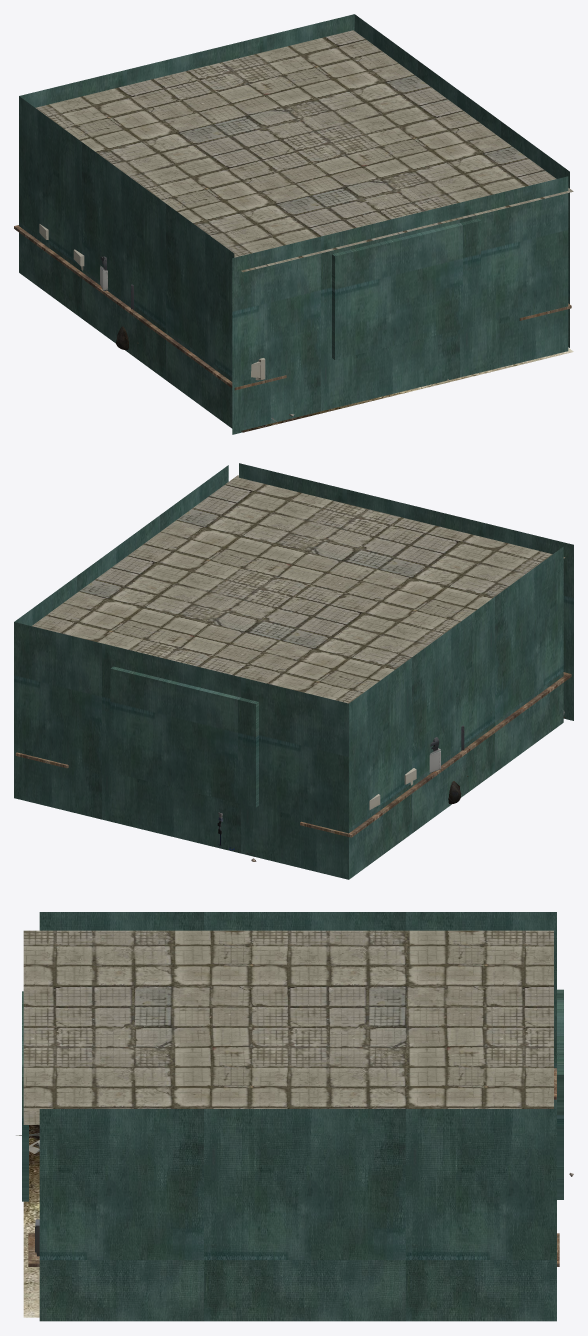
The model's file is office.glb.
3 views of the same model, one above another, from view 1: azimuth 30°, elevation 25°; view 2: azimuth 150°, elevation 25°; view 3: azimuth 270°, elevation 25° (orthographic). The views are drawn at different scales.
Parts seen in each view (by area): view 1: Plane.002, Plane.004, Cube, Plane; view 2: Plane.002, Plane.004, Cube; view 3: Plane.002, Plane.004, Plane.
Boxes of the visible parts, x1,y1,x2,y2 form: Plane.002: [19, 14, 569, 434]; Plane.004: [35, 30, 573, 272]; Cube: [14, 225, 286, 390]; Plane: [241, 348, 573, 432]; Plane.002: [14, 463, 573, 879]; Plane.004: [32, 475, 565, 703]; Cube: [300, 672, 571, 837]; Plane.002: [22, 912, 563, 1321]; Plane.004: [23, 930, 553, 1124]; Plane: [23, 1125, 39, 1317].
Bounding box in the file's own units: 7.24 × 3.63 × 8.52.
18 materials, 18 textured.
